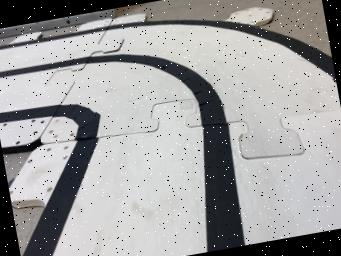street: (0, 11, 341, 256), (0, 11, 341, 256), (0, 11, 341, 256)
